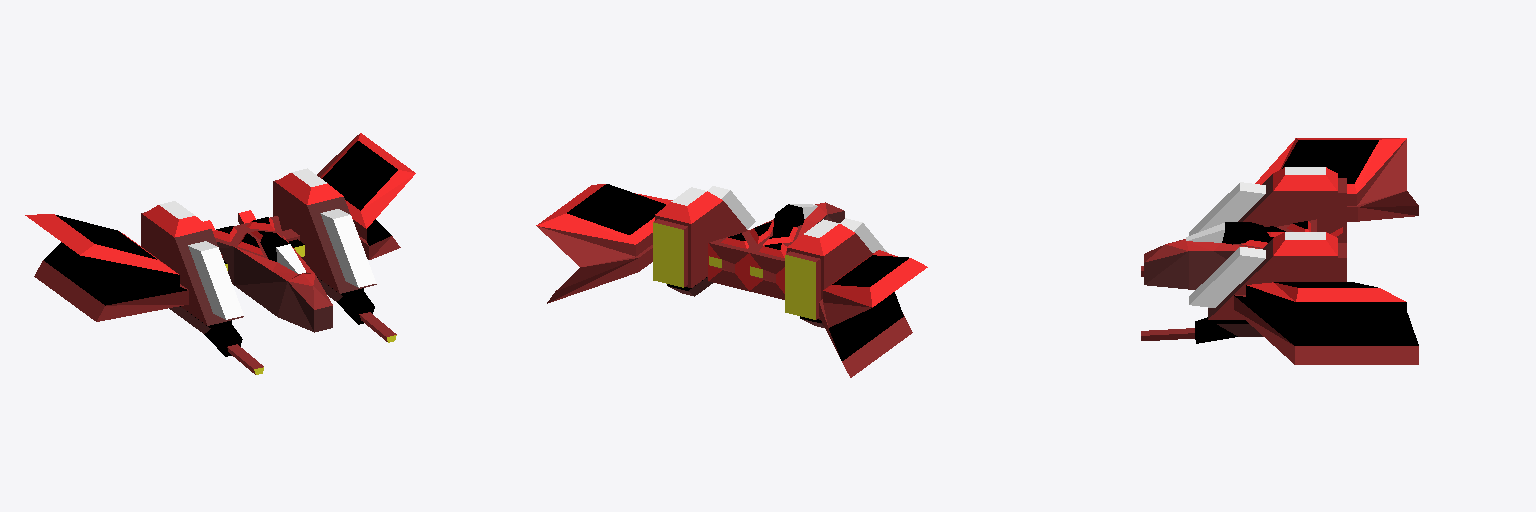
3 renders of one model, left to right at view 1: azimuth 30°, elevation 25°; view 2: azimuth 150°, elevation 25°; view 3: azimuth 270°, elevation 25°, orthographic.
Visible parts, largest first — view 1: Cube_0_Ship; view 2: Cube_0_Ship; view 3: Cube_0_Ship.
Boxes of the visible parts, x1=… form: Cube_0_Ship: x1=25, y1=133, x2=415, y2=374; Cube_0_Ship: x1=536, y1=184, x2=927, y2=377; Cube_0_Ship: x1=1141, y1=138, x2=1418, y2=364.
Bounding box in the file's own units: 11.17 × 3.34 × 8.
Materials: 1 (1 with a texture image).